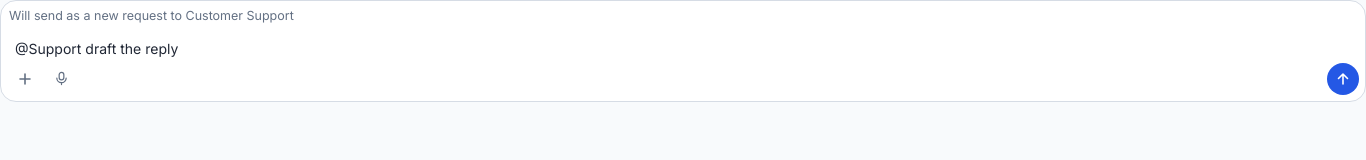
Test: Composer while a question is targeted › still answers when only the asking agent is mentioned
Replace the text in the text box named "Message the workforce" with "@HR the whole team": (684, 47) [9,32,1359,63]
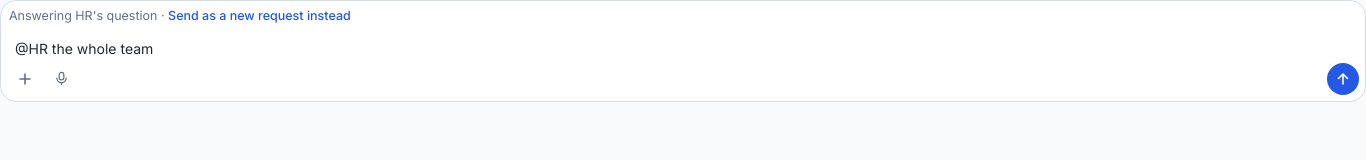
Check: the button named "Send answer" is shown, box [1327,63,1359,95]
Check: the text "Answering HR's question · Send as a new request instead" is shown, box [9,7,351,26]
